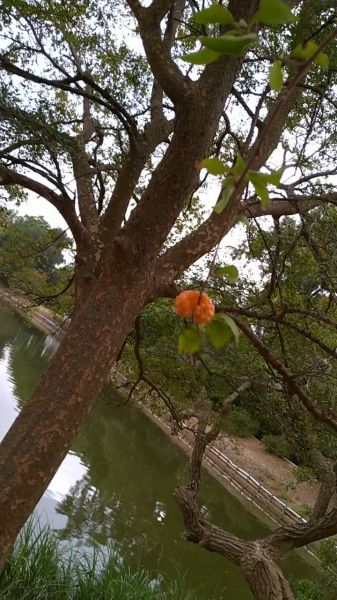eggs: (172, 284, 220, 324)
